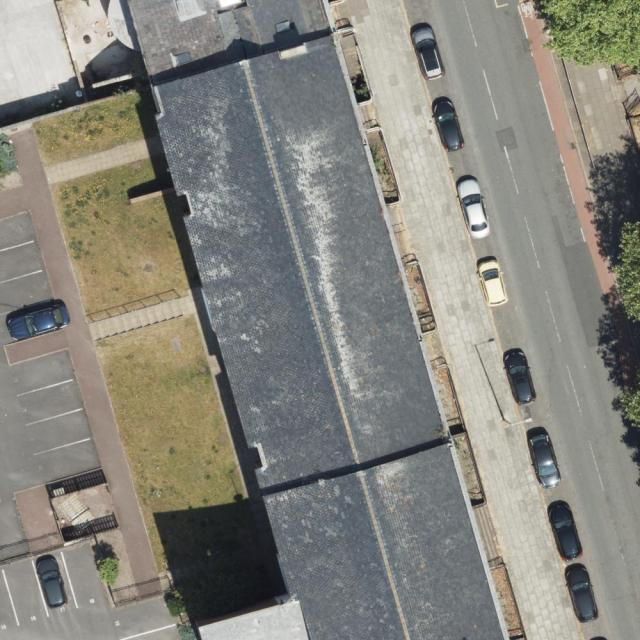roof: (124, 0, 512, 640)
skylight: (167, 49, 196, 70), (273, 17, 296, 34)
